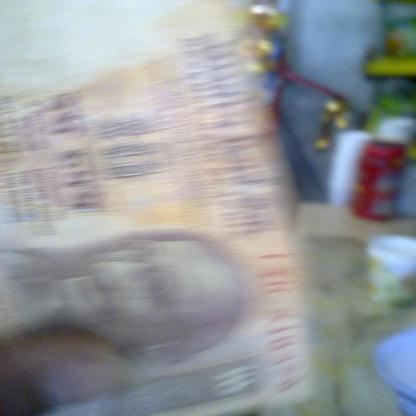Old10Front: (0, 0, 317, 415)
